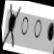correct: (45, 21, 54, 42)
not correct: (0, 1, 23, 52)
